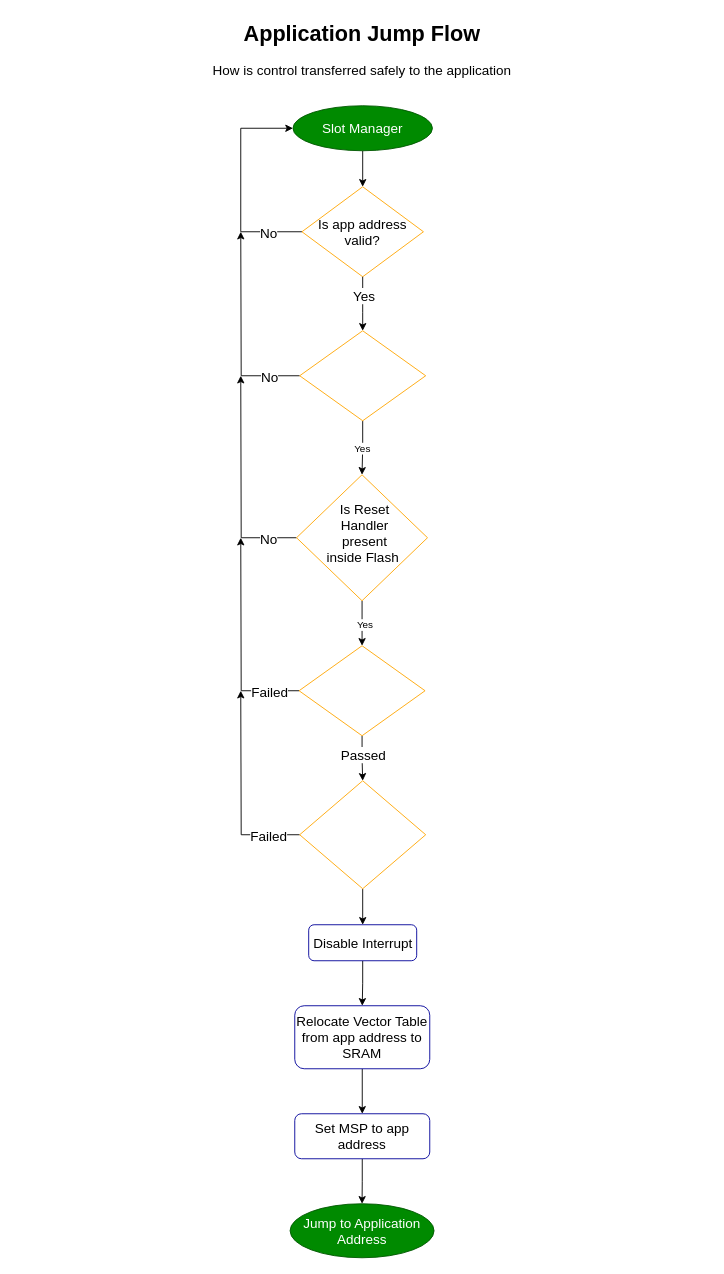
Some shapes in this 724 by 1274 pixel diagram are drawn without their labels. The centre of each missing label's shape, as x and y in pixels:
Is msp present inside SRAM: [362,375]
Thumb bit check: [361,690]
Verify App Magic Number: [362,834]
